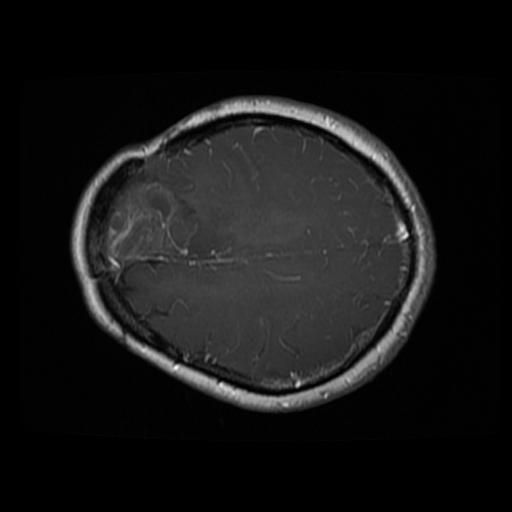glioma: (103, 155, 208, 284)
